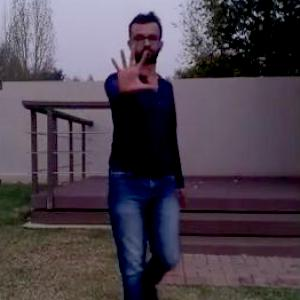follow_hand: (107, 41, 159, 96)
